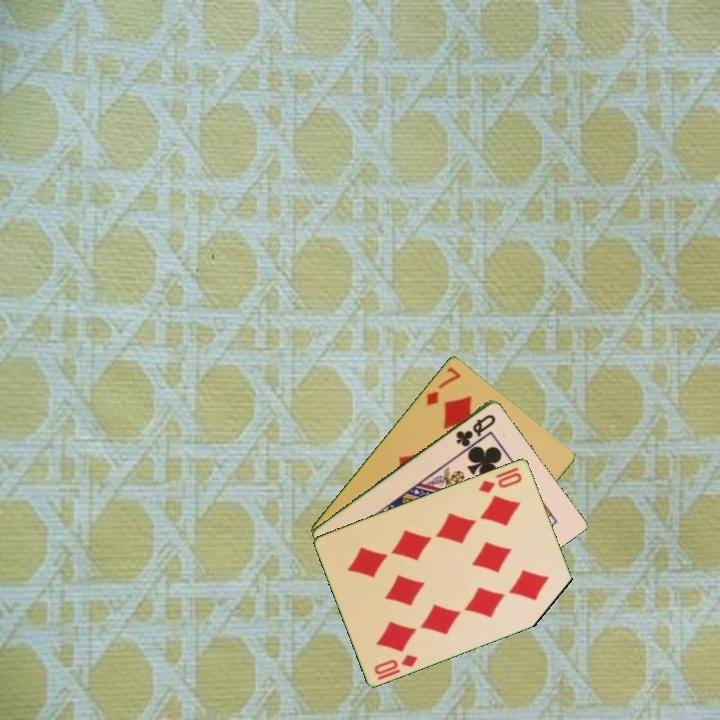10d: (370, 650, 421, 683), (475, 468, 525, 496)
7d: (423, 363, 464, 408)
Qc: (452, 410, 499, 450)
